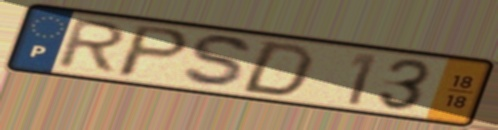1: (347, 52, 382, 108)
3: (373, 58, 435, 113)
D: (236, 39, 319, 99)
P: (112, 23, 194, 80)
R: (52, 17, 130, 75)
S: (178, 33, 257, 91)
